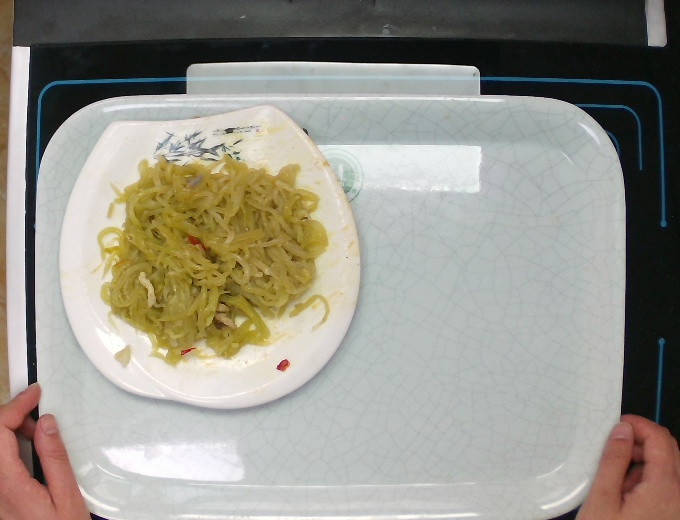JYsf-Mian_Pan: (49, 98, 368, 416)
